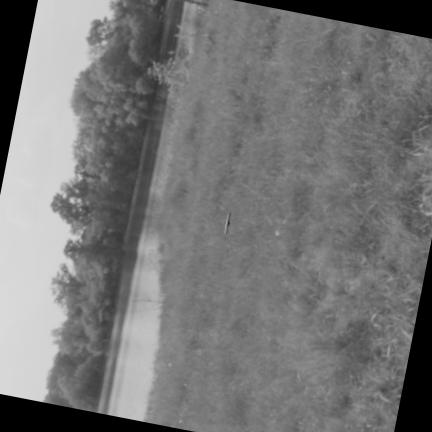Shahed: (225, 213, 230, 233)
